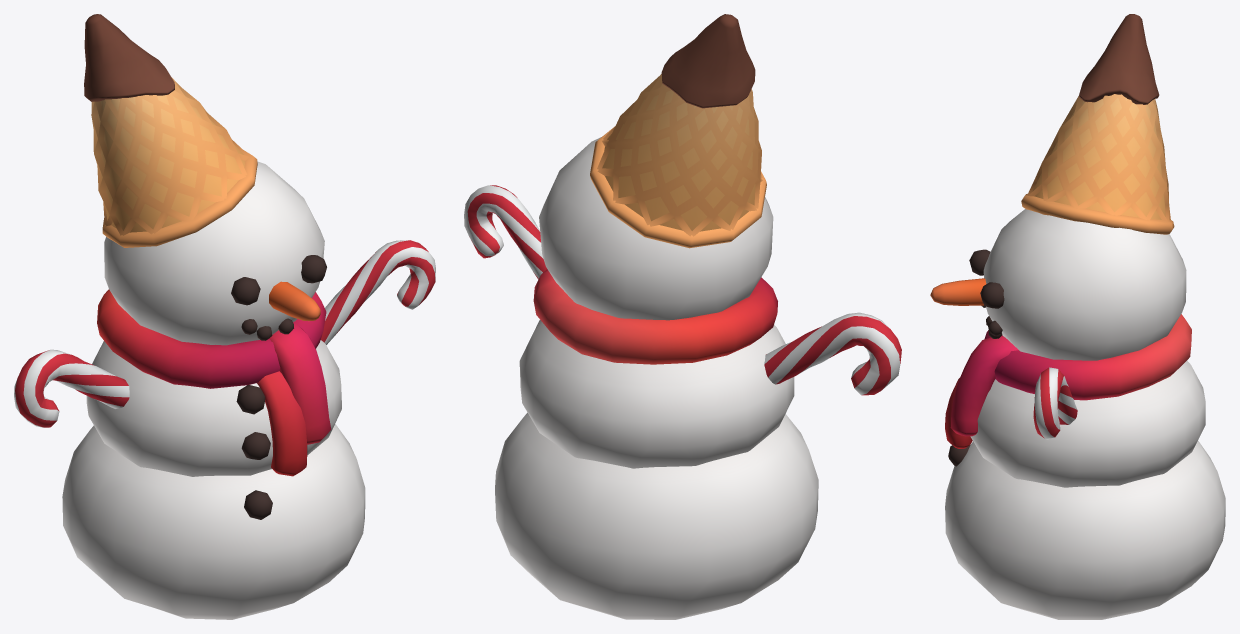
The model's file is Snowman_001.fbx.
The picture shows the model from 3 angles, left to right: view 1: azimuth 30°, elevation 25°; view 2: azimuth 150°, elevation 25°; view 3: azimuth 270°, elevation 25°; orthographic projection. The views are drawn at different scales.
Parts seen in each view (by area): view 1: Snowman_001; view 2: Snowman_001; view 3: Snowman_001.
Part boxes in pixels (x1,y1,x2,y2): Snowman_001: [14, 14, 435, 619]; Snowman_001: [464, 14, 901, 619]; Snowman_001: [930, 14, 1225, 619].
Bounding box in the file's own units: 2.9 × 3.91 × 1.94.
